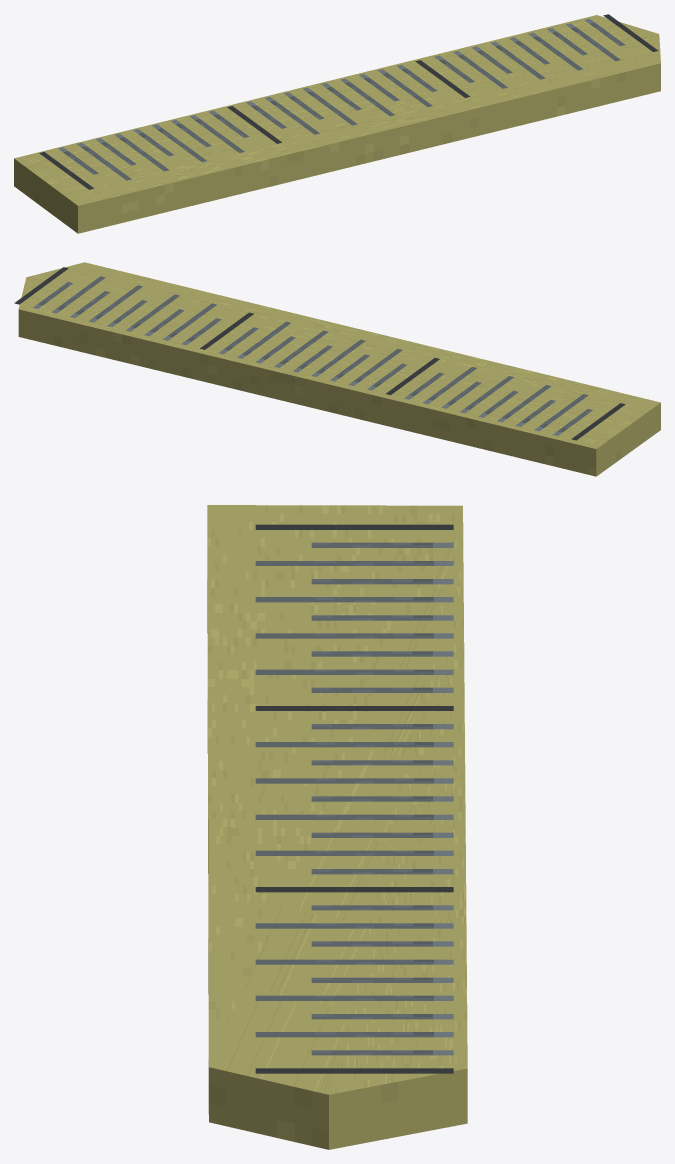
Rendered from ruler.glb.
3 renders of one model, top to bottom at view 1: azimuth 30°, elevation 25°; view 2: azimuth 150°, elevation 25°; view 3: azimuth 270°, elevation 25°, orthographic. The views are drawn at different scales.
Parts seen in each view (by area): view 1: block_15 cm ruler; view 2: block_15 cm ruler; view 3: block_15 cm ruler, block_measurement tick (×16).
Boxes of the visible parts, x1,y1,x2,y2 form: block_15 cm ruler: (14, 15, 660, 233); block_15 cm ruler: (18, 262, 660, 476); block_15 cm ruler: (207, 505, 467, 1149); block_measurement tick (×16): (255, 524, 453, 1073).
Bounding box in the file's own units: 0.16 × 0.00733 × 0.0299.
1 material, 1 textured.
